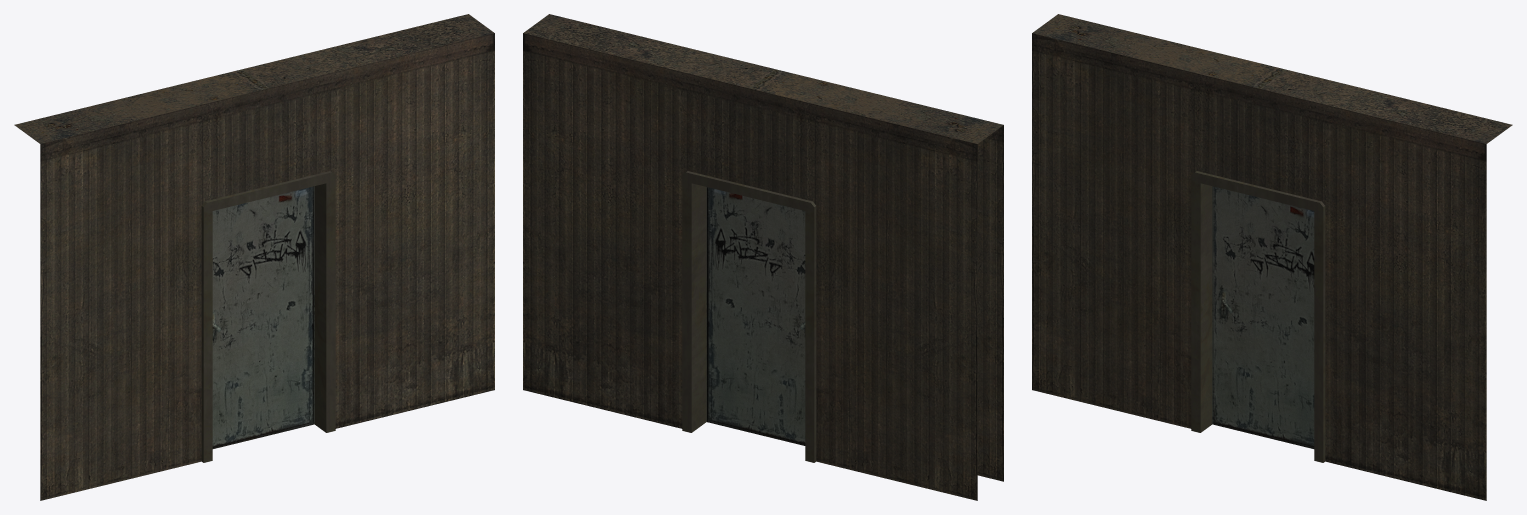
File: doorway_rx_1.obj
3 renders of one model, left to right at view 1: azimuth 30°, elevation 25°; view 2: azimuth 150°, elevation 25°; view 3: azimuth 330°, elevation 25°, orthographic.
Parts seen in each view (by area): view 1: doorway_rx_1, door_hr_11; view 2: doorway_rx_1, door_hr_11; view 3: doorway_rx_1, door_hr_11.
Boxes of the visible parts, x1,y1,x2,y2 form: doorway_rx_1: (14, 14, 494, 500); door_hr_11: (212, 186, 314, 448); doorway_rx_1: (523, 14, 1003, 500); door_hr_11: (706, 187, 805, 445); doorway_rx_1: (1032, 14, 1512, 500); door_hr_11: (1212, 186, 1314, 448).
Size of the model in its own units: 4 by 3 by 0.46.
